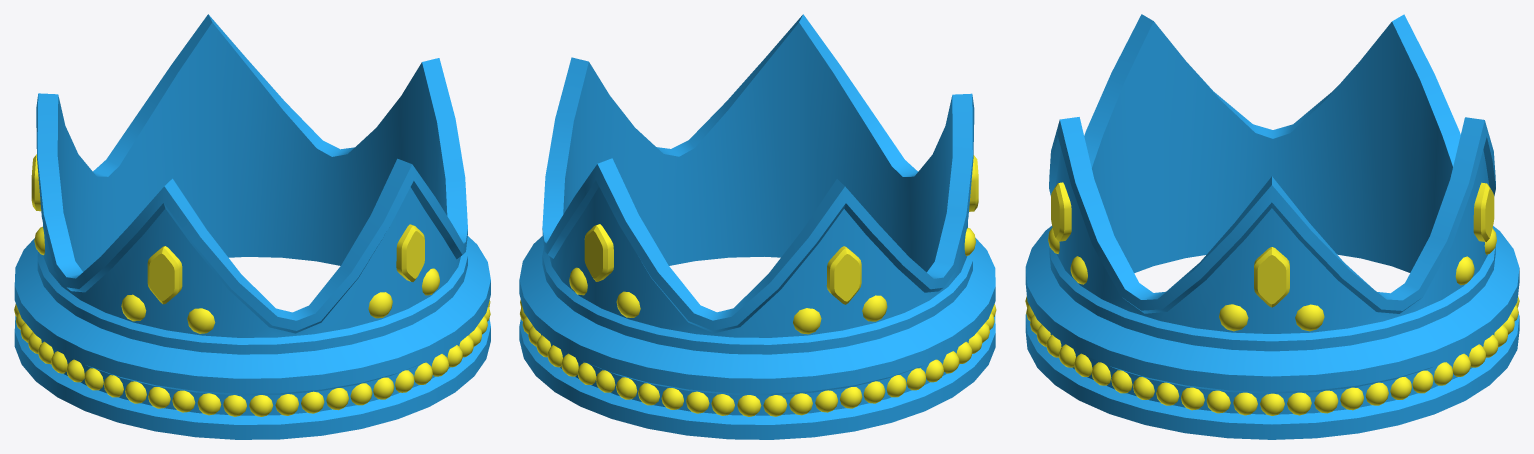
The model's file is Cake_ThemeRoyal_D.FBX.
3 views of the same model, side by side, from view 1: azimuth 30°, elevation 25°; view 2: azimuth 150°, elevation 25°; view 3: azimuth 270°, elevation 25° (orthographic). The views are drawn at different scales.
Parts seen in each view (by area): view 1: Cake_ThemeRoyal_D; view 2: Cake_ThemeRoyal_D; view 3: Cake_ThemeRoyal_D.
Part boxes in pixels (<box>): Cake_ThemeRoyal_D: <box>14,14,490,439</box>; Cake_ThemeRoyal_D: <box>519,14,996,439</box>; Cake_ThemeRoyal_D: <box>1025,14,1519,439</box>.
Bounding box in the file's own units: 115189 × 63001 × 115231.
